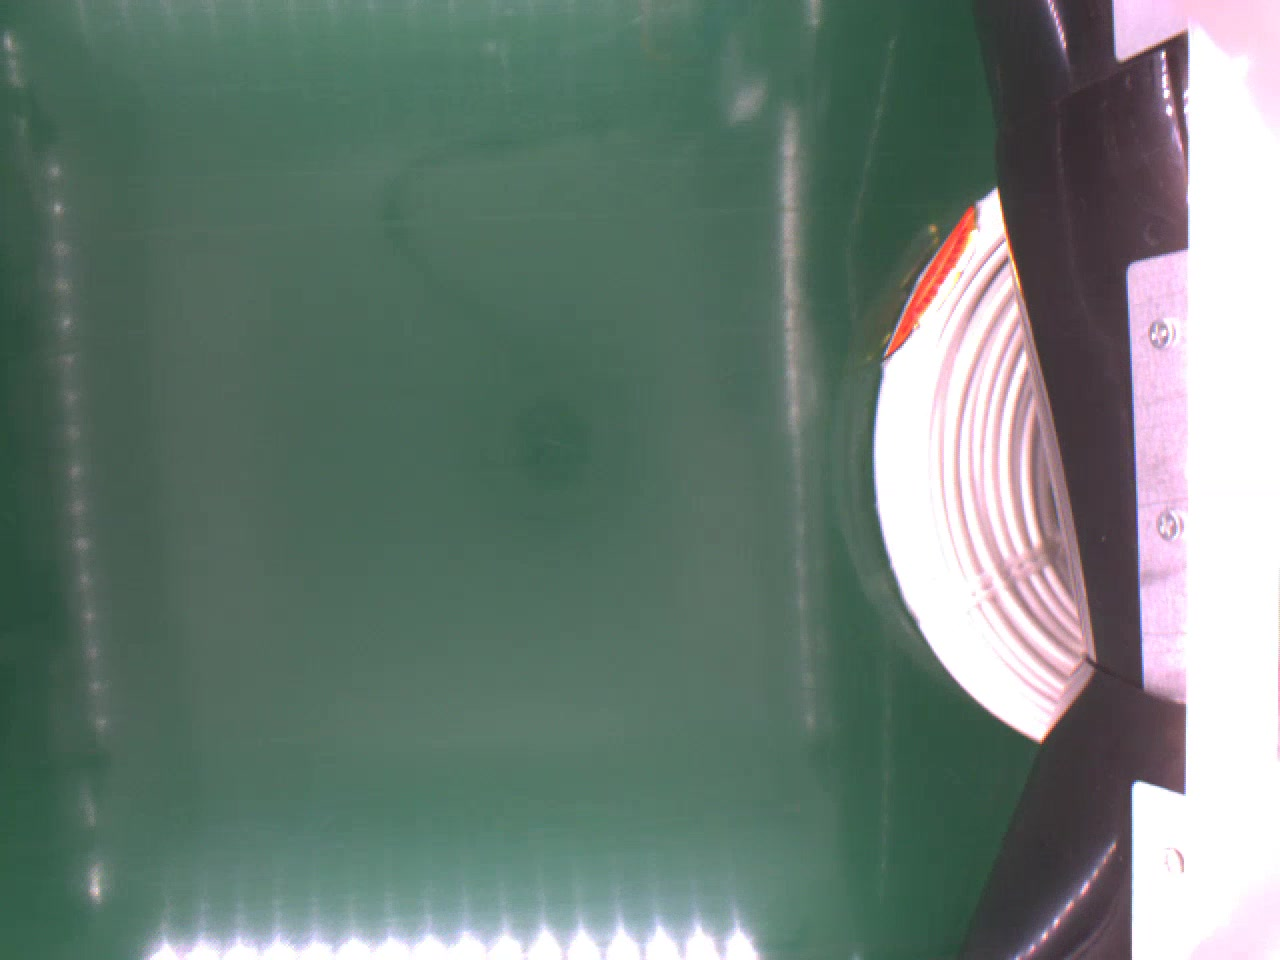white: (872, 184, 1085, 742)
